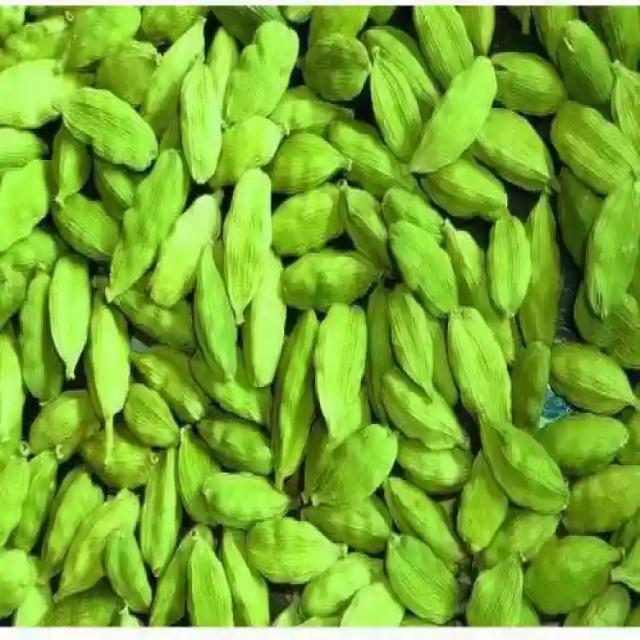Cardamom: (0, 18, 640, 618), (396, 44, 507, 179), (102, 147, 192, 312), (468, 386, 572, 521), (213, 154, 277, 330), (457, 108, 566, 209), (43, 80, 158, 175), (377, 367, 474, 459), (310, 300, 370, 448), (196, 457, 305, 535), (384, 213, 464, 319), (170, 49, 226, 188), (85, 284, 132, 444), (46, 253, 93, 383), (99, 524, 161, 616), (485, 209, 535, 315)
